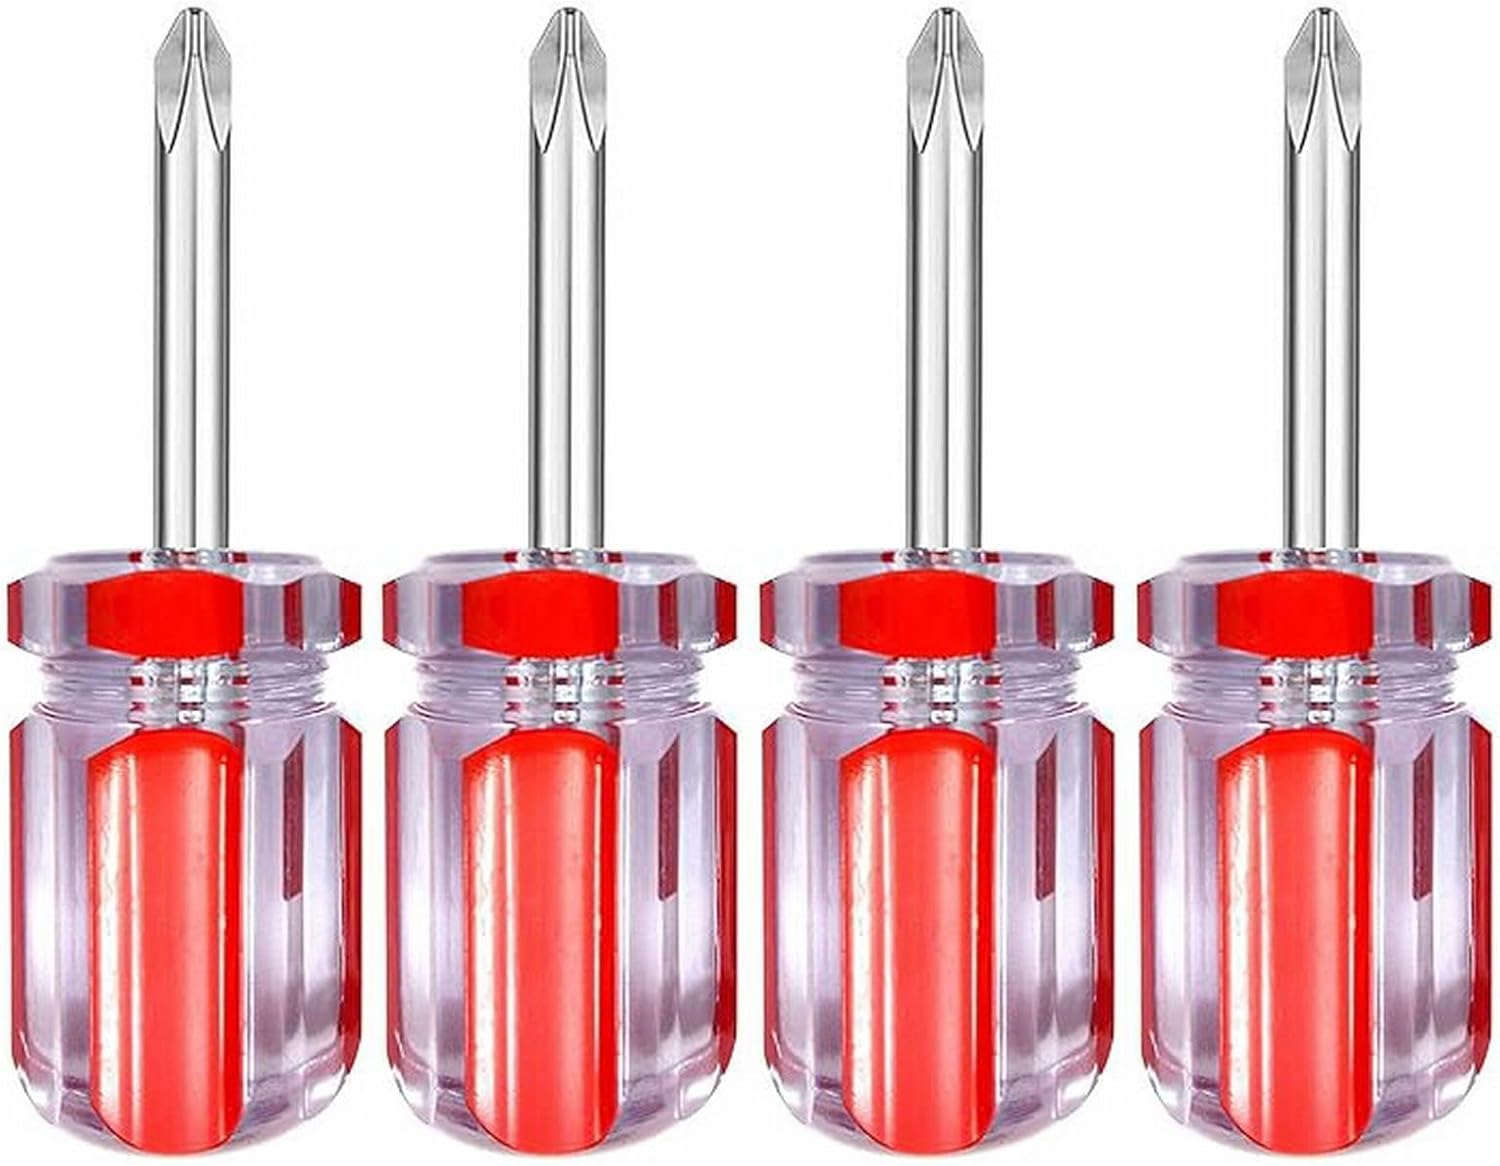screwdriver: (744, 4, 1127, 1157), (1, 4, 377, 1157), (373, 1, 746, 1151), (1130, 1, 1496, 1161)
